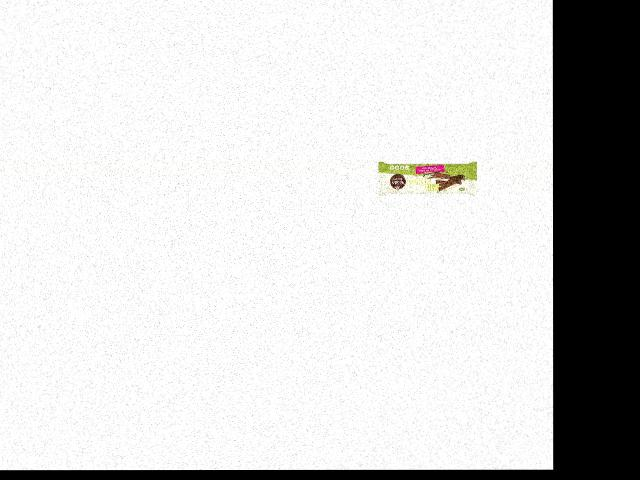chocolate: (378, 157, 479, 198)
